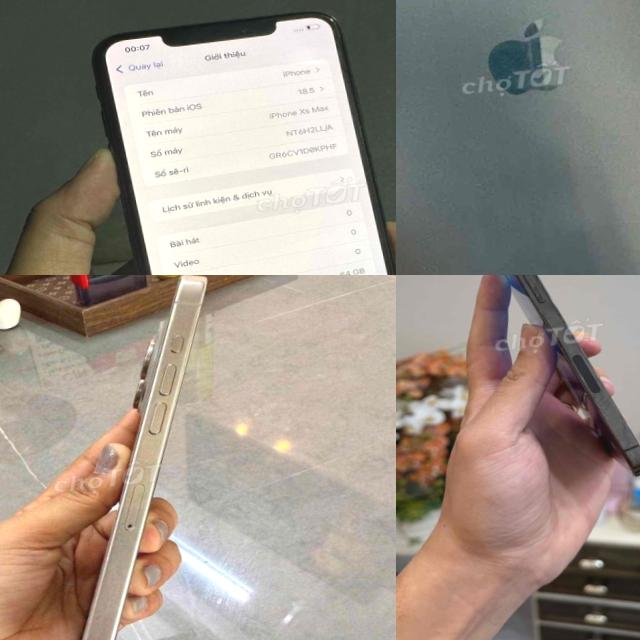gen_12_13: (396, 0, 640, 275), (460, 275, 640, 499)
gen_15: (0, 275, 260, 640)
gen_x_xs: (72, 0, 396, 275)
